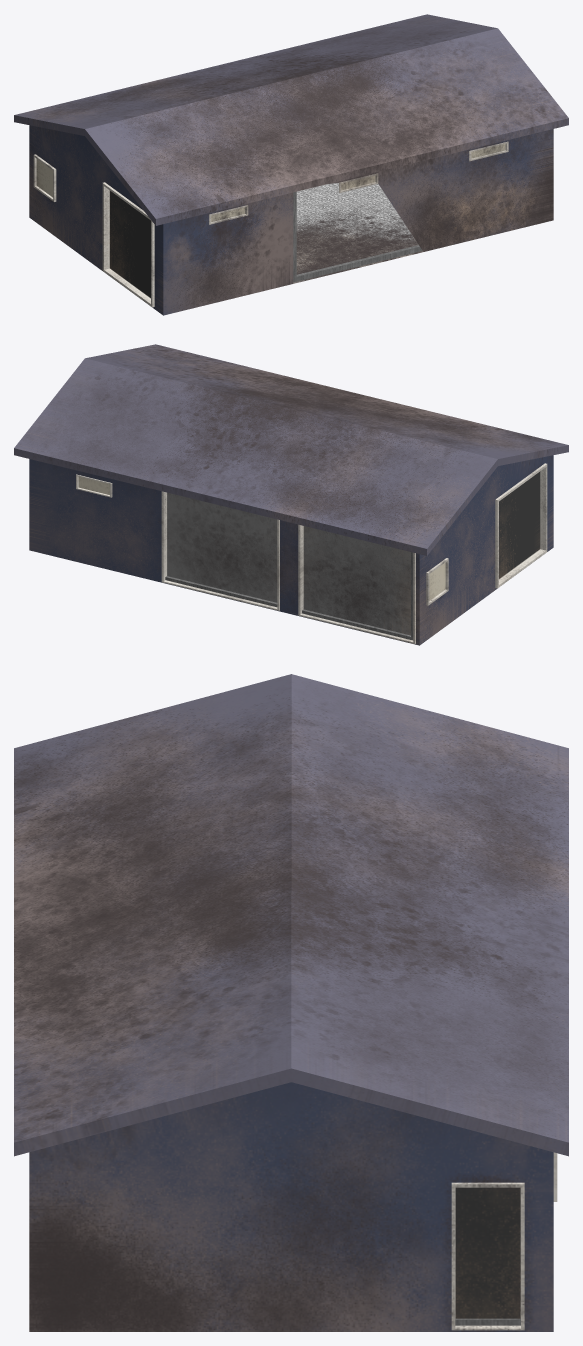
The model's file is stage1container.fbx.
The picture shows the model from 3 angles, top to bottom: view 1: azimuth 30°, elevation 25°; view 2: azimuth 150°, elevation 25°; view 3: azimuth 270°, elevation 25°; orthographic projection. The views are drawn at different scales.
Parts seen in each view (by area): view 1: container, container_body; view 2: container, container_body; view 3: container.
Part boxes in pixels (x1,y1,x2,y2): container: [14, 14, 568, 315]; container_body: [293, 191, 422, 282]; container: [14, 344, 568, 645]; container_body: [165, 552, 413, 640]; container: [14, 674, 568, 1331].
Size of the model in its own units: 1456 by 472 by 866.
2 materials, 2 textured.
